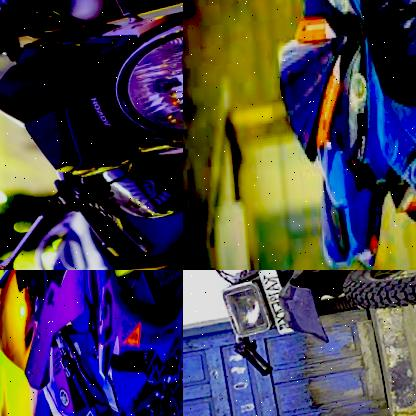bike: (266, 0, 416, 270), (0, 270, 183, 416), (193, 270, 416, 352)
